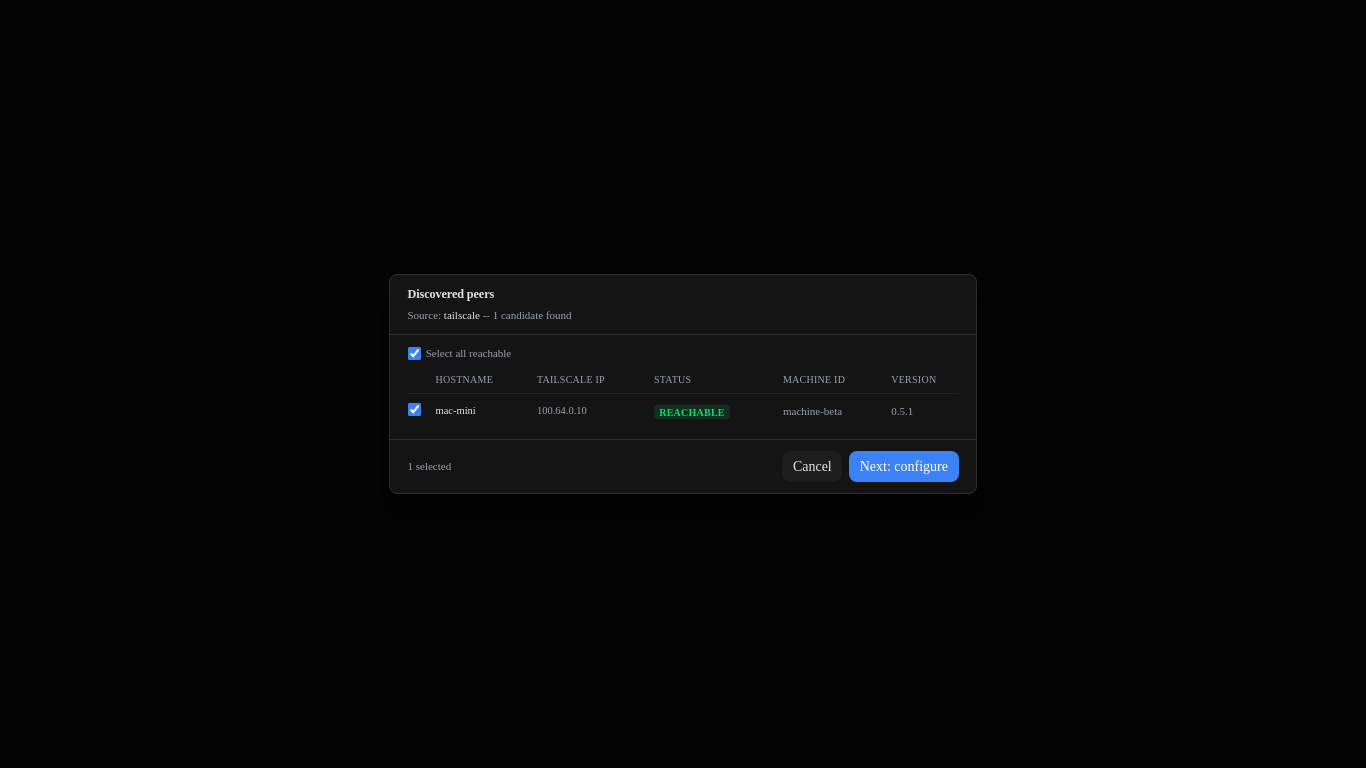
it: DiscoverPeersDialog › navigates back from confirm to select
Click the button with test id "discover-next". click: (904, 466)
box: [849,451,959,482]
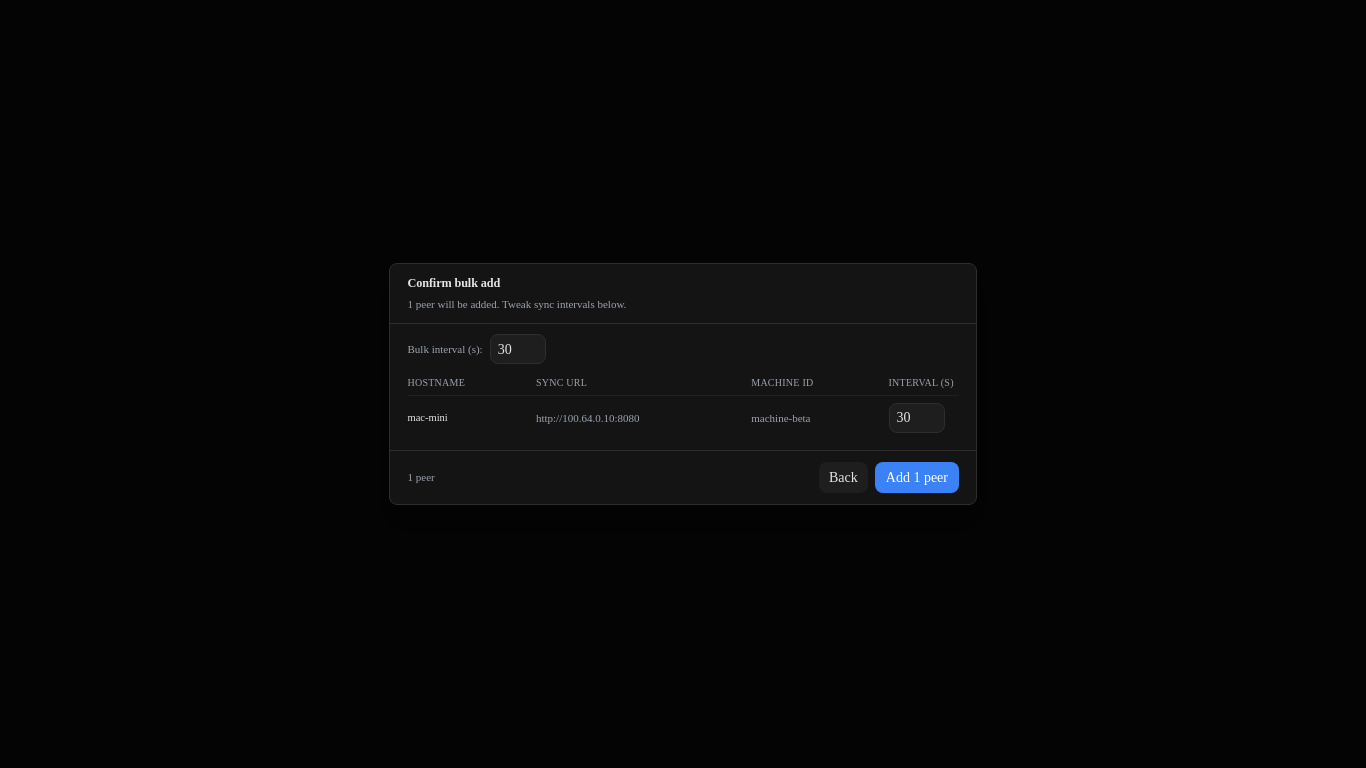
Expected: the button with test id "discover-confirm" is shown, [875,462,958,493]
Click the button "Back". click: (843, 478)
box: [818,462,868,493]
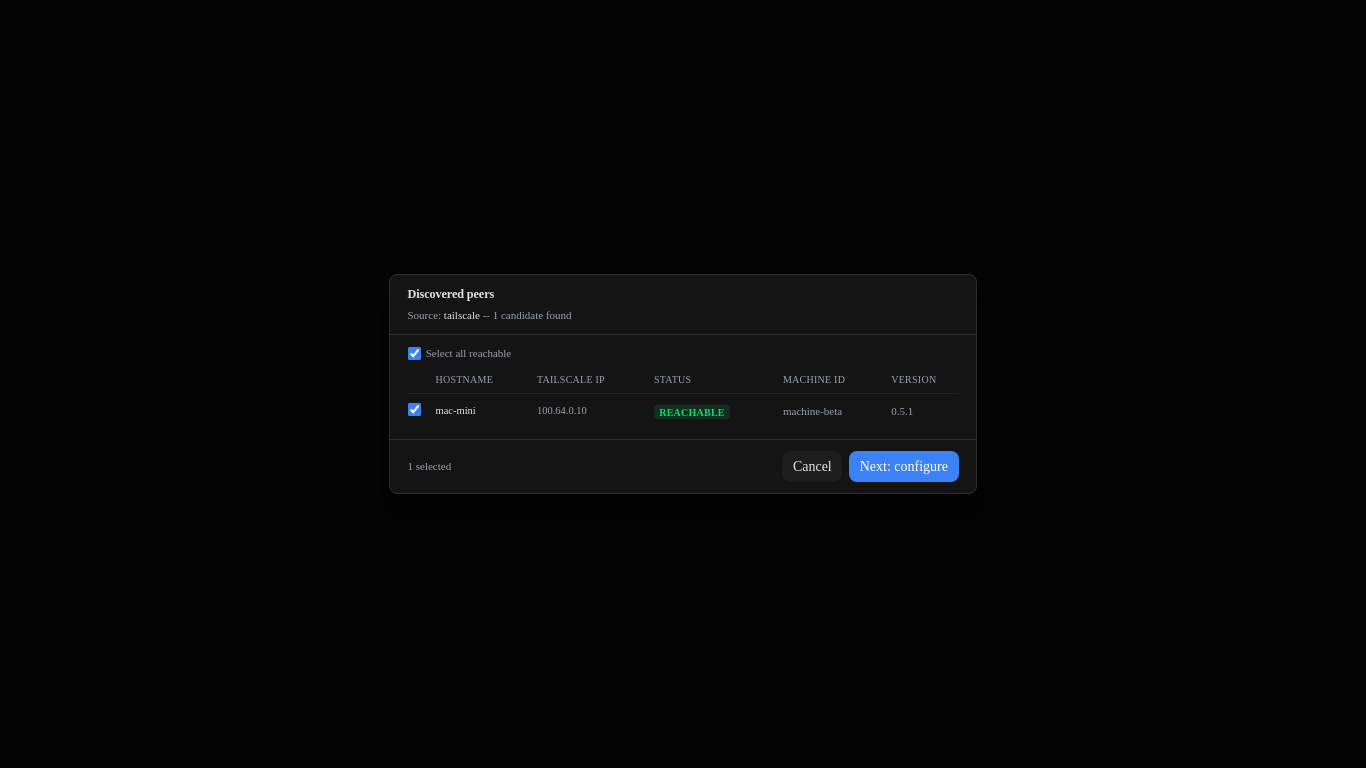
Expected: the button with test id "discover-next" is shown, [849,451,959,482]
